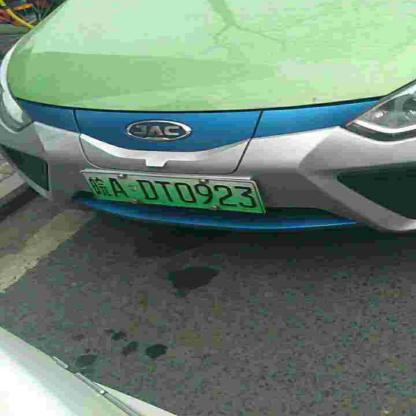lp: (80, 171, 266, 214)
